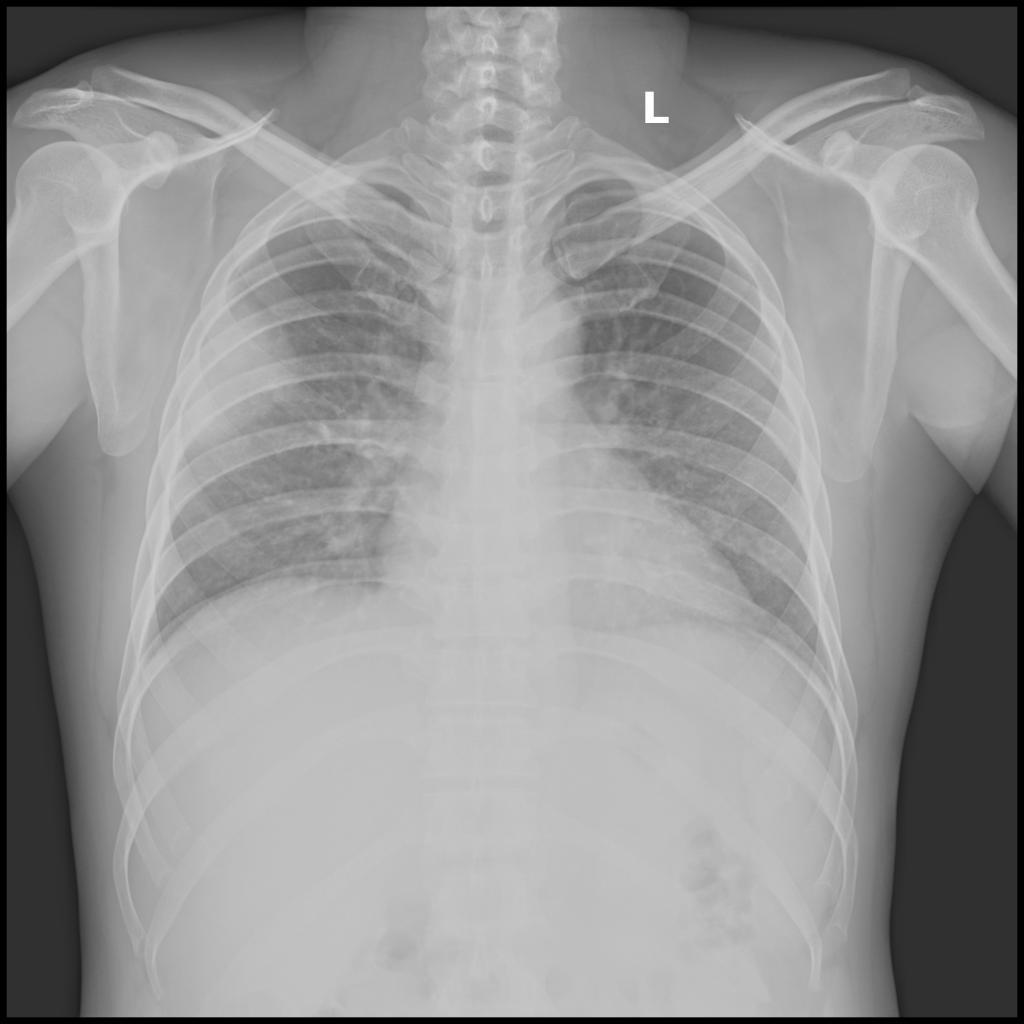Nodule: (176, 277, 288, 446)
